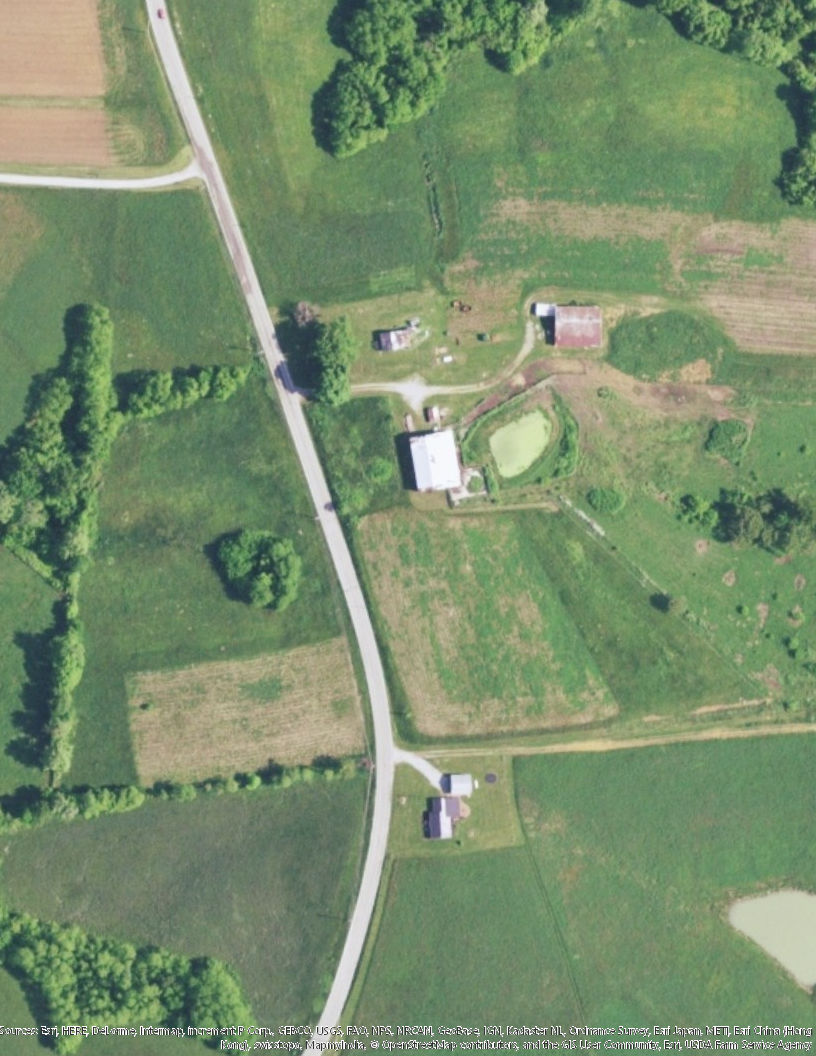cafo: (404, 415, 468, 496), (534, 299, 616, 353)
